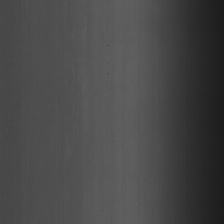inclusion: (105, 39, 110, 78)
